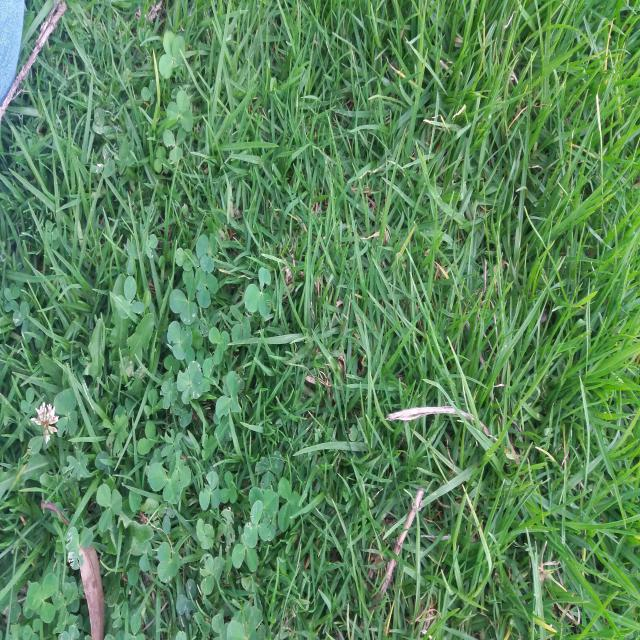Four Leaf Clover: (159, 31, 186, 79), (53, 388, 77, 437), (177, 361, 203, 404), (160, 378, 176, 409)
